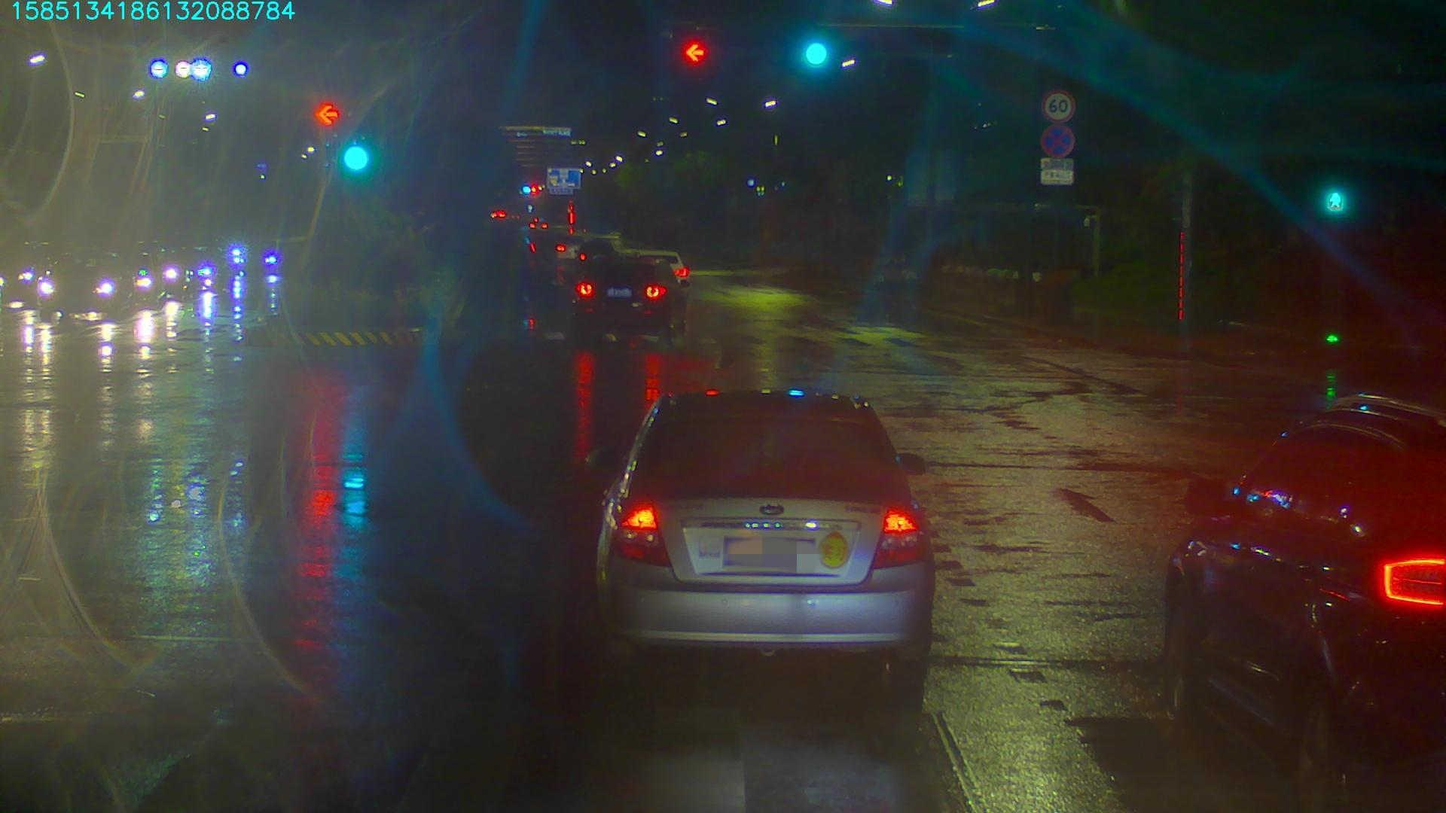green: (798, 36, 837, 71)
red: (682, 38, 709, 64)
